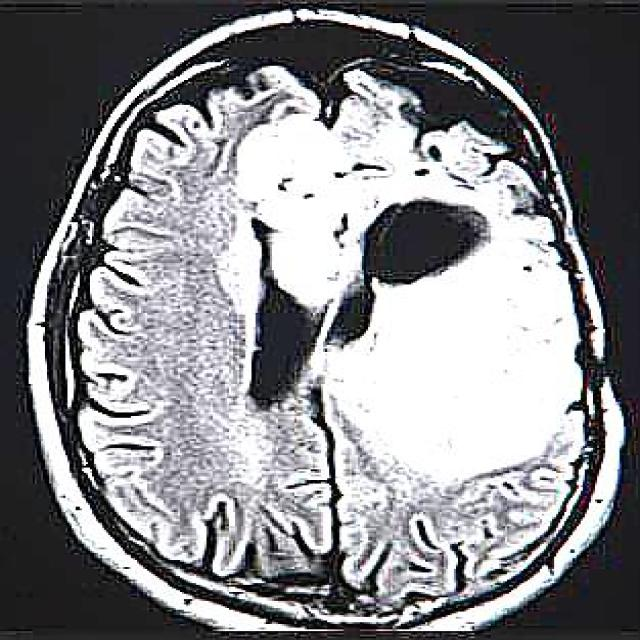Tumor-Cell: (226, 127, 564, 480)
